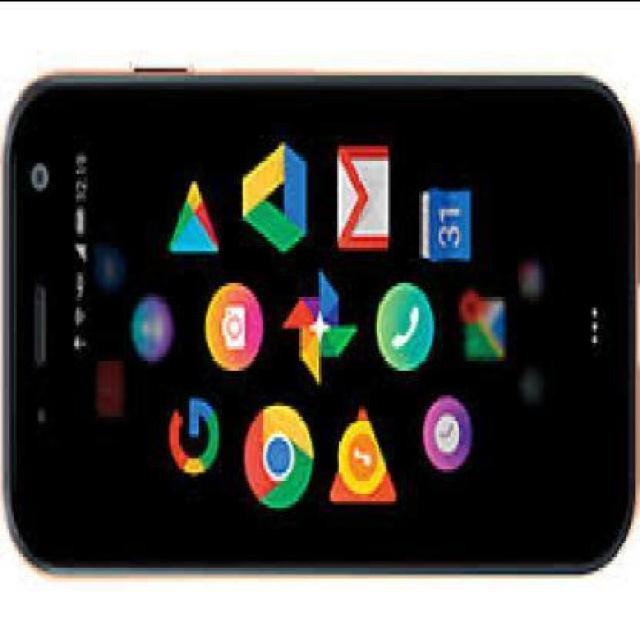mobile: (1, 71, 637, 577)
